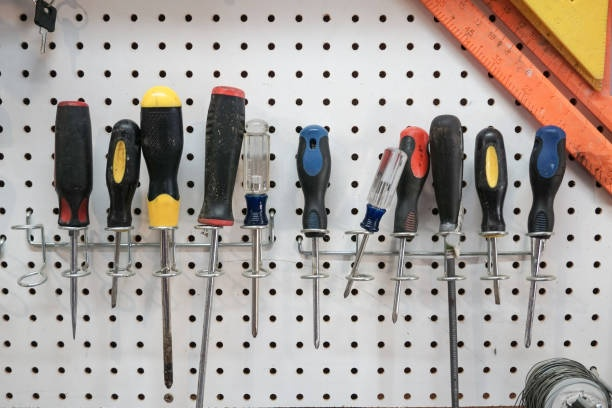screwdriver: (196, 83, 244, 408), (139, 86, 185, 390), (430, 114, 467, 408), (51, 97, 93, 341), (523, 123, 567, 352), (341, 144, 399, 303), (295, 124, 335, 350), (390, 124, 429, 328), (101, 120, 141, 309), (240, 117, 271, 339), (473, 125, 510, 305)
